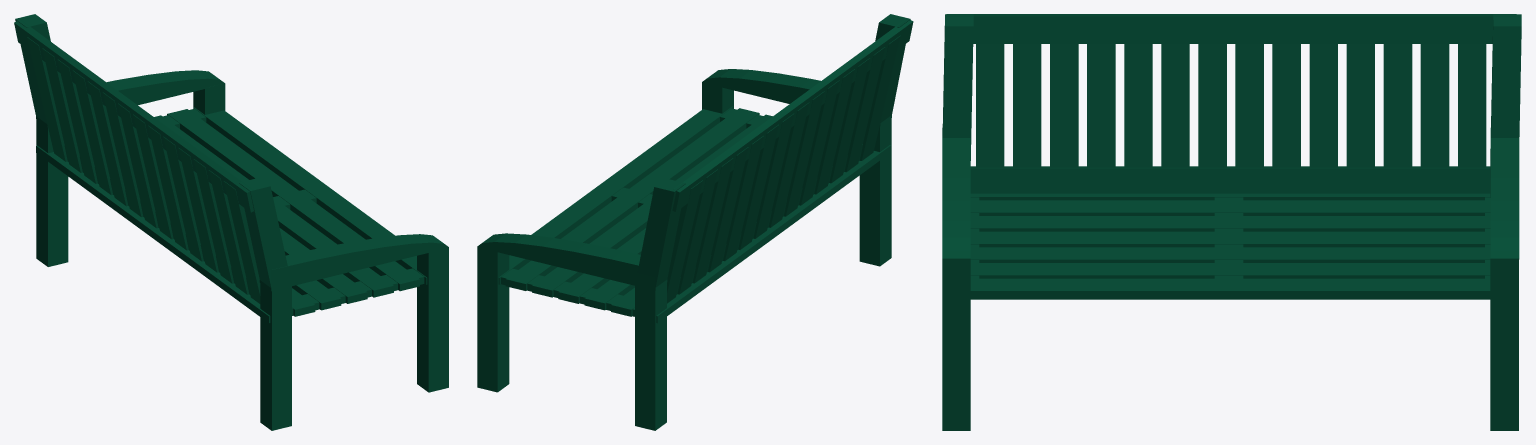
The model's file is banca.fbx.
The picture shows the model from 3 angles, left to right: view 1: azimuth 30°, elevation 25°; view 2: azimuth 150°, elevation 25°; view 3: azimuth 270°, elevation 25°; orthographic projection. The views are drawn at different scales.
Parts seen in each view (by area): view 1: banca; view 2: banca; view 3: banca.
Part boxes in pixels (x1,y1,x2,y2): banca: (14,14,448,430); banca: (477,14,913,430); banca: (942,14,1521,430).
Size of the model in its own units: 298 by 347 by 610.
